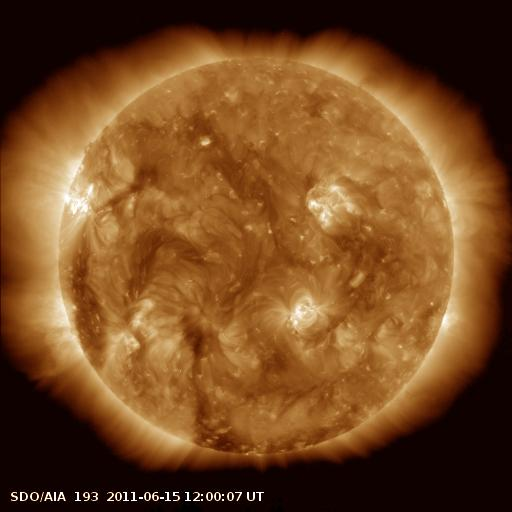coronal_hole: (68, 226, 111, 375)
